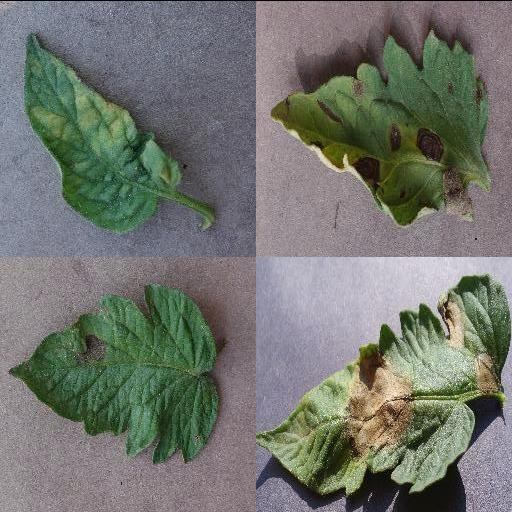Early Blight: (267, 28, 497, 226), (7, 282, 221, 464)
Late Blight: (256, 271, 512, 497)
Leaf Mold: (24, 32, 182, 229)
